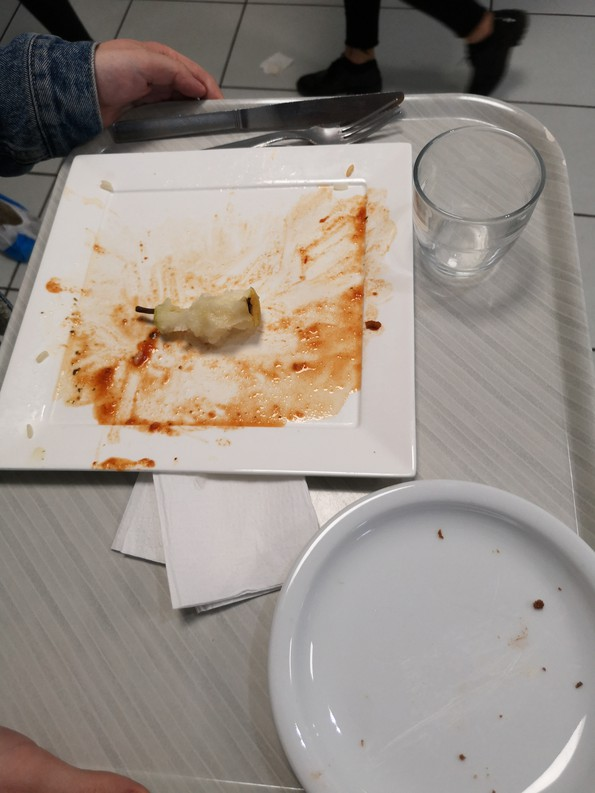cup: (406, 123, 551, 292)
cutlery: (99, 101, 398, 157)
orga: (116, 276, 274, 353)
trash: (149, 479, 310, 630)
